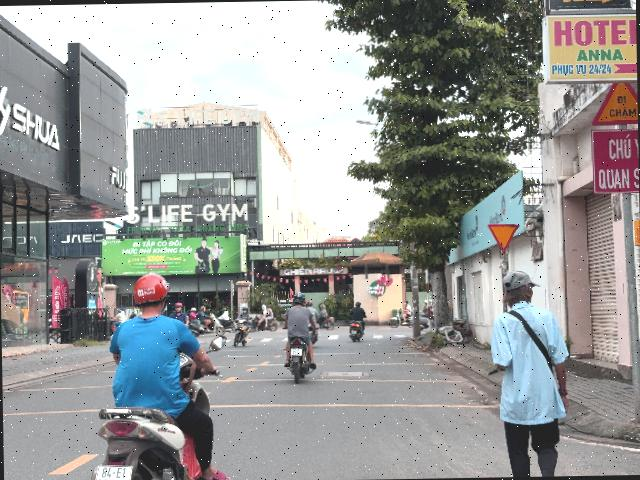giao-nhau-voi-duong-uu-tien: (488, 223, 520, 252)
